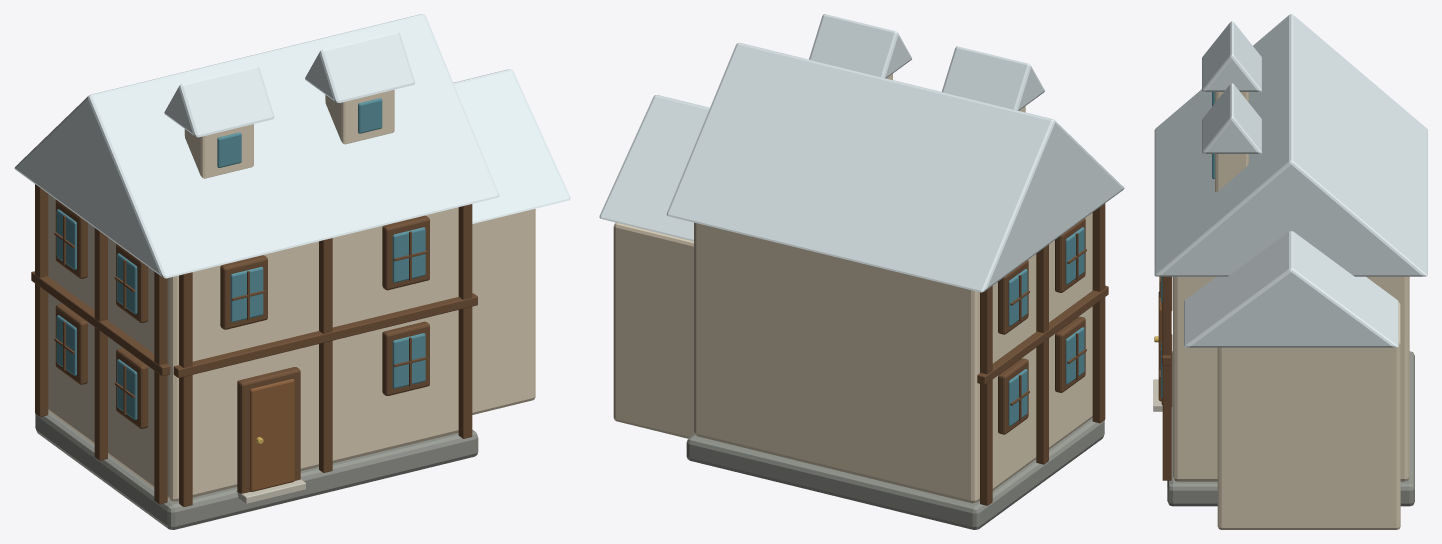
File: snowy-townhouse-1.glb
The picture shows the model from 3 angles, left to right: view 1: azimuth 30°, elevation 25°; view 2: azimuth 150°, elevation 25°; view 3: azimuth 270°, elevation 25°; orthographic projection. The views are drawn at different scales.
Visible parts, largest first — view 1: Snow, Warm lime, Dark beams, Foundation stone, Blue glass, Door oak, Cut limestone; view 2: Warm lime, Snow, Dark beams, Foundation stone, Blue glass; view 3: Snow, Warm lime, Foundation stone, Dark beams.
Part boxes in pixels (box(x1,y1,x2,y2)): Snow: box(14, 14, 570, 278); Warm lime: box(48, 89, 535, 501); Dark beams: box(31, 184, 477, 506); Foundation stone: box(35, 411, 478, 529); Blue glass: box(56, 98, 425, 419); Door oak: box(249, 379, 294, 491); Cut limestone: box(236, 479, 305, 503); Warm lime: box(613, 74, 1092, 503); Snow: box(599, 14, 1124, 292); Dark beams: box(977, 203, 1108, 505); Foundation stone: box(686, 418, 1104, 529); Blue glass: box(1008, 227, 1084, 426); Snow: box(1154, 14, 1427, 347); Warm lime: box(1173, 92, 1409, 529); Foundation stone: box(1167, 351, 1414, 506); Dark beams: box(1159, 276, 1172, 480).
Size of the model in its own units: 4.96 by 4.59 by 3.07.
